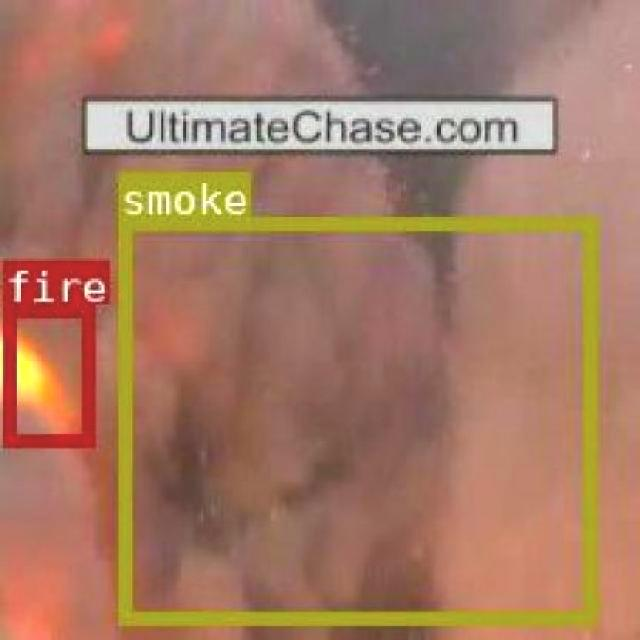fire: (0, 303, 91, 445)
smoke: (117, 216, 594, 621)
